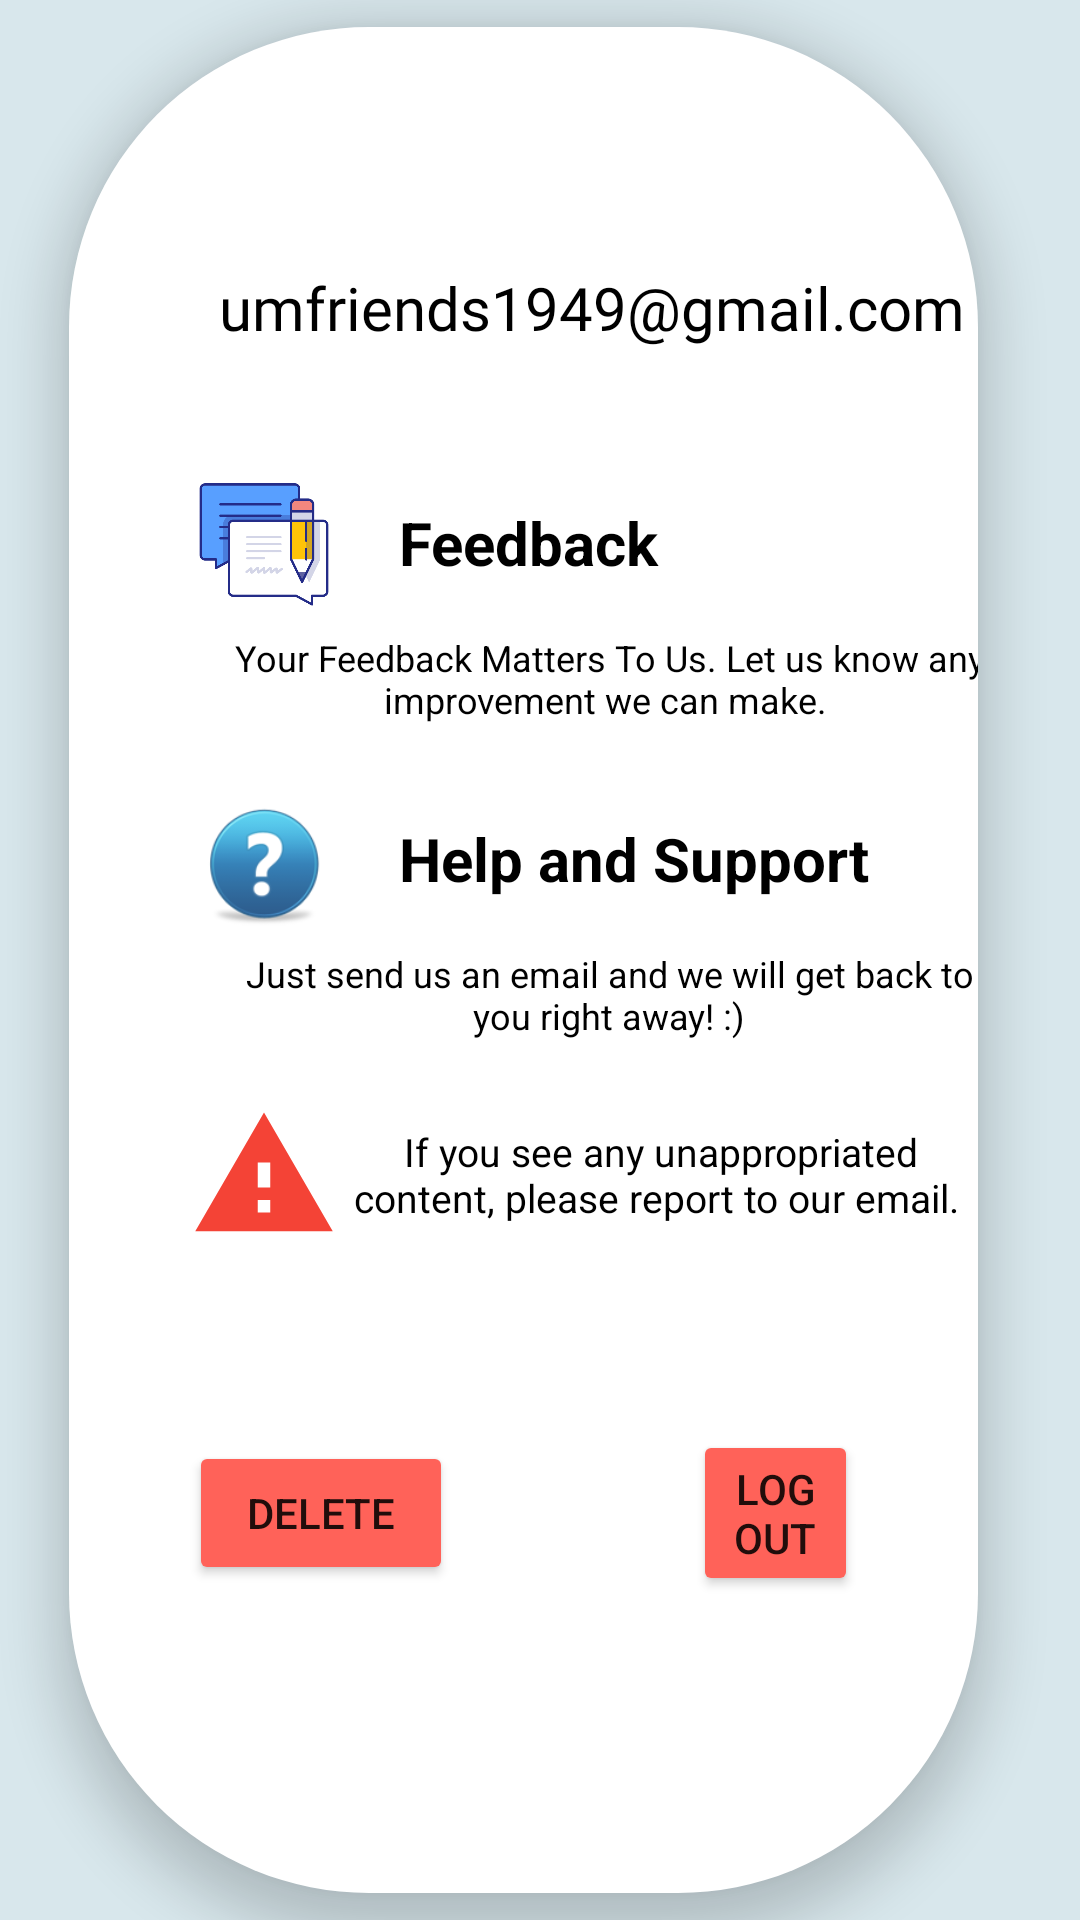

Screen size 1080x1920. Icon name, then its box in pixels as (x1, y1, x2, y2):
question: (210, 809, 319, 922)
warning: (195, 1113, 333, 1232)
